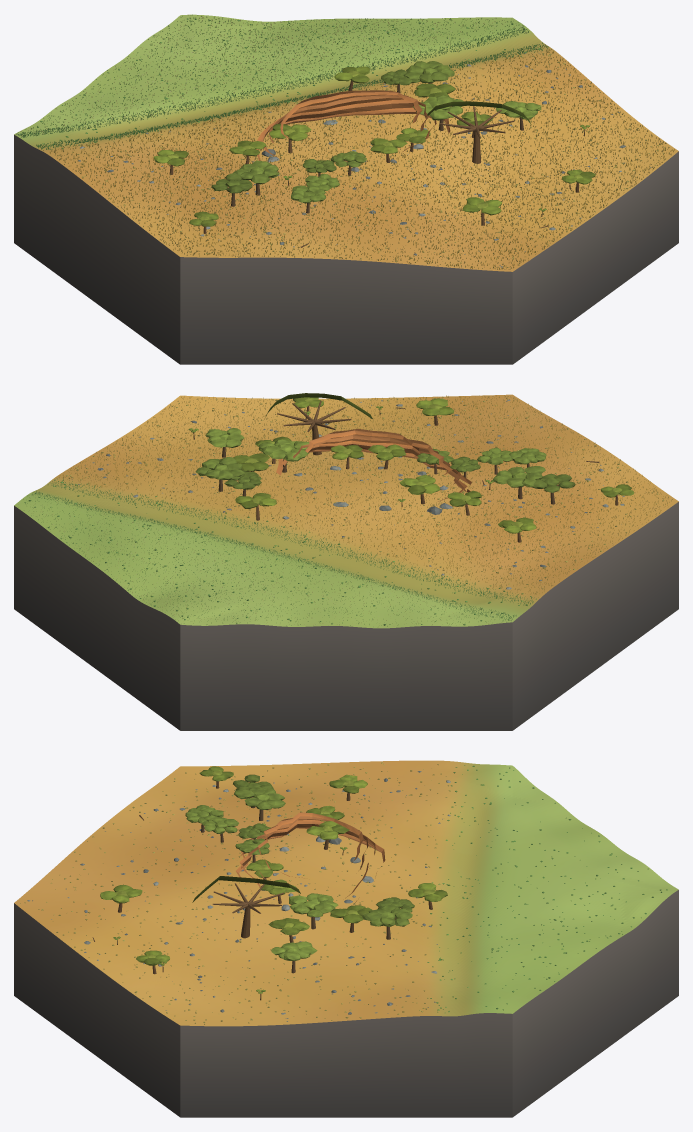
3 renders of one model, top to bottom at view 1: azimuth 30°, elevation 25°; view 2: azimuth 150°, elevation 25°; view 3: azimuth 270°, elevation 25°, orthographic.
Parts seen in each view (by area): view 1: terrain, hex_side_cut, wildflowers, broadleaf_canopy, rock_escarpments, shrubs, boulders, trunks, branches; view 2: terrain, hex_side_cut, wildflowers, broadleaf_canopy, shrubs, rock_escarpments, boulders, trunks, branches; view 3: terrain, hex_side_cut, broadleaf_canopy, shrubs, rock_escarpments, boulders, trunks, branches.
Boxes of the visible parts, <box> form: terrain: <box>14,14,678,271</box>; hex_side_cut: <box>14,134,678,364</box>; wildflowers: <box>16,14,674,269</box>; broadleaf_canopy: <box>153,61,595,226</box>; rock_escarpments: <box>256,90,450,160</box>; shrubs: <box>19,18,665,269</box>; boulders: <box>78,53,651,267</box>; trunks: <box>169,81,585,233</box>; branches: <box>227,106,548,247</box>; terrain: <box>14,394,678,628</box>; hex_side_cut: <box>14,502,678,730</box>; wildflowers: <box>23,395,672,626</box>; broadleaf_canopy: <box>188,393,634,533</box>; shrubs: <box>25,396,664,625</box>; rock_escarpments: <box>276,428,471,501</box>; boulders: <box>72,399,624,589</box>; trunks: <box>193,406,618,542</box>; branches: <box>277,400,599,500</box>; terrain: <box>14,760,678,1026</box>; hex_side_cut: <box>14,890,678,1117</box>; broadleaf_canopy: <box>100,766,447,993</box>; shrubs: <box>20,762,667,1024</box>; rock_escarpments: <box>236,812,385,903</box>; boulders: <box>27,771,450,1021</box>; trunks: <box>117,781,432,1000</box>; branches: <box>92,797,395,941</box>.
Bounding box in the file's own units: 4330 × 1249 × 5000.
